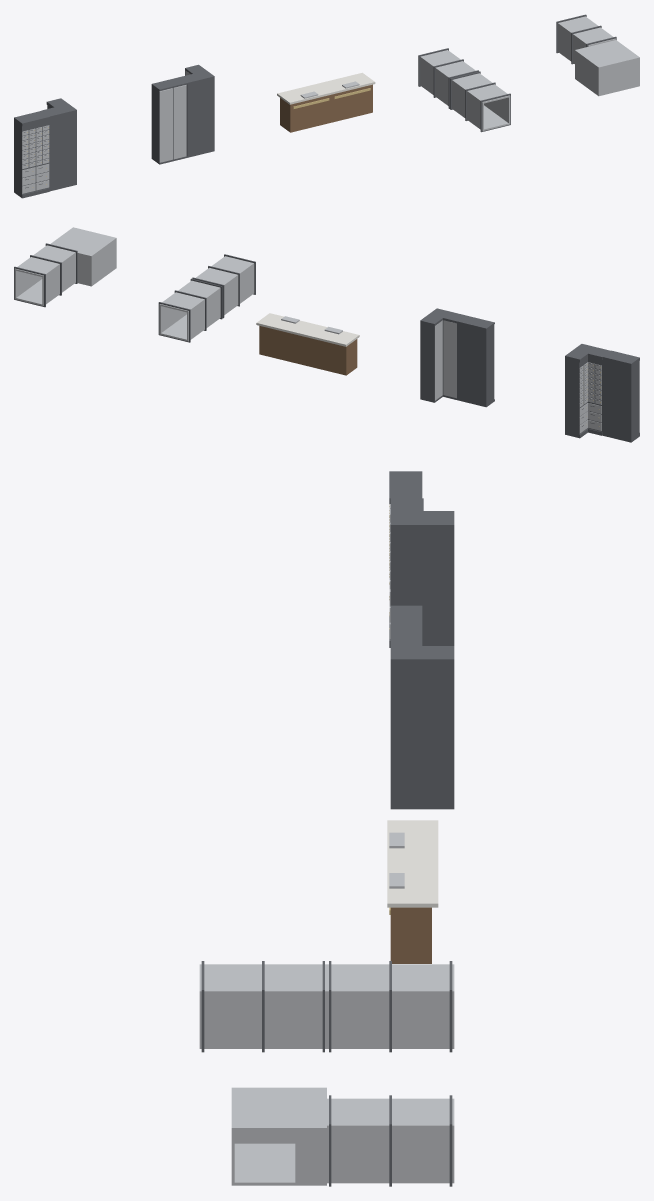
Rendered from bank-vault-heist-kit-bank-connector-cases-1a71a757__25169.glb.
3 views of the same model, one above another, from view 1: azimuth 30°, elevation 25°; view 2: azimuth 150°, elevation 25°; view 3: azimuth 270°, elevation 25° (orthographic). The views are drawn at different scales.
Visible parts, largest first — view 1: 009-air-duct-corner/0, 003-vault-wall-corner/0, 001-deposit-box-wall-corner/0, 007-air-duct-straight/0, 002-vault-wall-1m/1, 000-deposit-box-wall-straight/0, 000-deposit-box-wall-straight/1, 006-air-duct-straight/0, 004-teller-counter/0, 008-air-duct-straight/0, 005-teller-counter/0, 002-vault-wall-1m/0 (+5 smaller); view 2: 000-deposit-box-wall-straight/0, 002-vault-wall-1m/0, 006-air-duct-straight/0, 008-air-duct-straight/0, 001-deposit-box-wall-corner/0, 009-air-duct-corner/0, 003-vault-wall-corner/0, 007-air-duct-straight/0, 003-vault-wall-corner/1, 004-teller-counter/0, 001-deposit-box-wall-corner/1, 005-teller-counter/0 (+5 smaller); view 3: 003-vault-wall-corner/0, 008-air-duct-straight/0, 006-air-duct-straight/0, 007-air-duct-straight/0, 009-air-duct-corner/0, 001-deposit-box-wall-corner/0, 005-teller-counter/0, 005-teller-counter/1, 004-teller-counter/1, 000-deposit-box-wall-straight/0.
Part boxes in pixels (x1,y1,x2,y2): 009-air-duct-corner/0: (575,40,639,96); 003-vault-wall-corner/0: (179,64,214,157); 001-deposit-box-wall-corner/0: (41,98,76,191); 007-air-duct-straight/0: (452,73,510,130); 002-vault-wall-1m/1: (159,85,186,162); 000-deposit-box-wall-straight/0: (14,111,49,198); 000-deposit-box-wall-straight/1: (22,125,49,193); 006-air-duct-straight/0: (420,50,475,105); 004-teller-counter/0: (280,94,331,132); 008-air-duct-straight/0: (558,16,615,63); 005-teller-counter/0: (331,84,372,122); 002-vault-wall-1m/0: (151,77,187,164); 000-deposit-box-wall-straight/0: (602,350,639,442); 002-vault-wall-1m/0: (457,315,494,407); 006-air-duct-straight/0: (159,280,220,341); 008-air-duct-straight/0: (14,245,75,306); 001-deposit-box-wall-corner/0: (565,344,610,438); 009-air-duct-corner/0: (50,227,116,286); 003-vault-wall-corner/0: (420,308,465,402); 007-air-duct-straight/0: (196,256,254,314); 003-vault-wall-corner/1: (435,320,456,400); 004-teller-counter/0: (303,336,357,375); 001-deposit-box-wall-corner/1: (579,362,601,433); 005-teller-counter/0: (259,326,302,364); 003-vault-wall-corner/0: (390,632,454,809); 008-air-duct-straight/0: (327,1098,454,1183); 006-air-duct-straight/0: (327,964,454,1048); 007-air-duct-straight/0: (199,964,326,1048); 009-air-duct-corner/0: (231,1087,326,1185); 001-deposit-box-wall-corner/0: (390,498,454,645); 005-teller-counter/0: (390,907,431,963); 005-teller-counter/1: (387,863,438,907); 004-teller-counter/1: (387,820,438,863); 000-deposit-box-wall-straight/0: (389,471,422,647).
Size of the model in its own units: 21.04 by 2.6 by 4.
